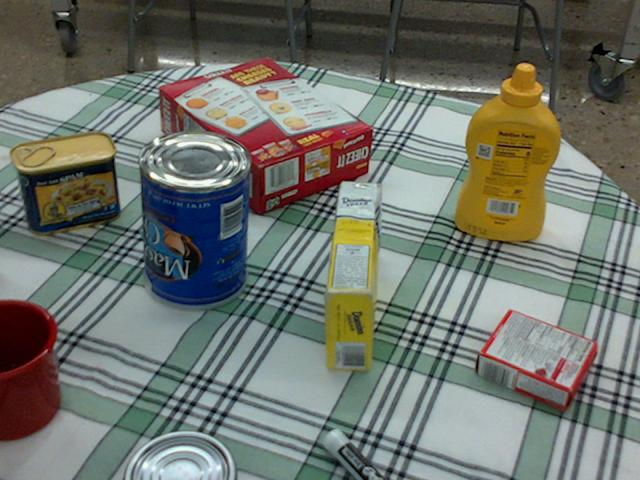cracker_box: (157, 58, 371, 209)
gelatin_box: (475, 309, 595, 411)
large_marker: (323, 429, 385, 479)
master_chef_can: (135, 129, 248, 310)
mug: (0, 295, 58, 437)
mustard_bottle: (454, 63, 559, 239)
potted_meat_can: (11, 132, 119, 235)
sugar_box: (323, 182, 378, 370)
tuna_fish_can: (120, 431, 233, 479)
